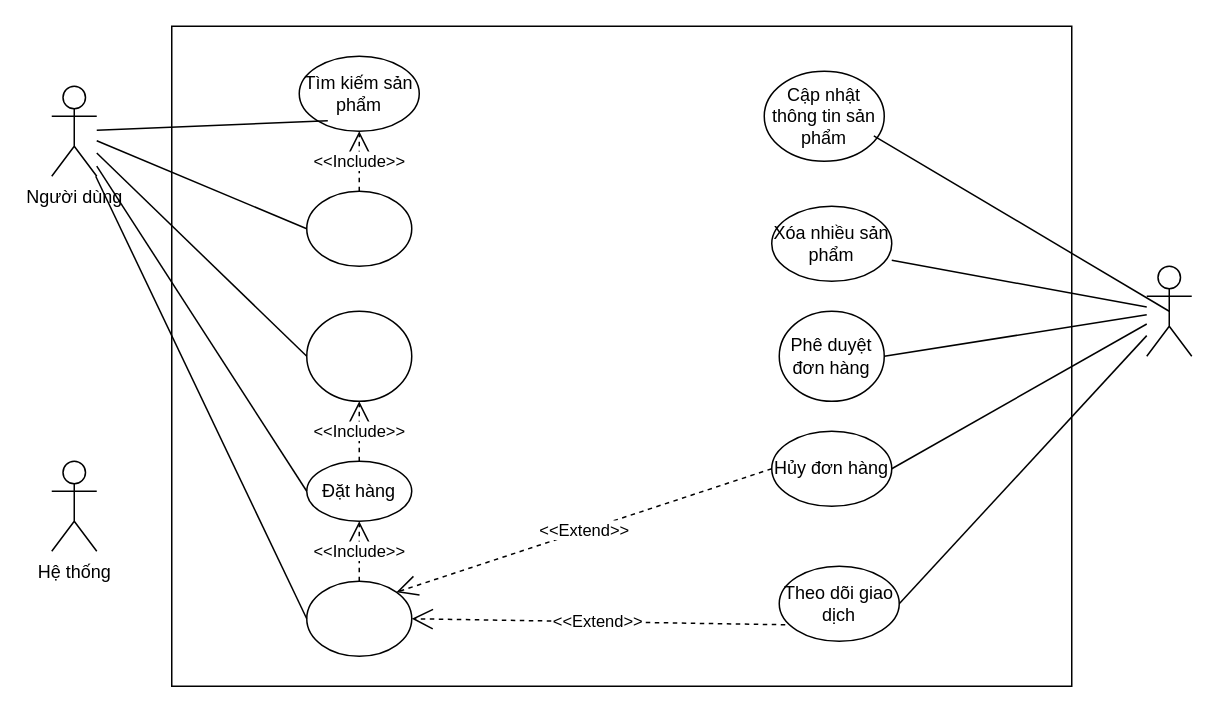
Image size: 1220x713. Some labels were removed from this diagram. The centre of each missing label's shape, as x and y in pixels:
"Admin" goes at point (1168, 310).
"Thanh toán đơn hàng" goes at point (358, 618).
"Thêm sản phẩm" goes at point (358, 228).
"Xem giỏ hàng" goes at point (358, 355).
